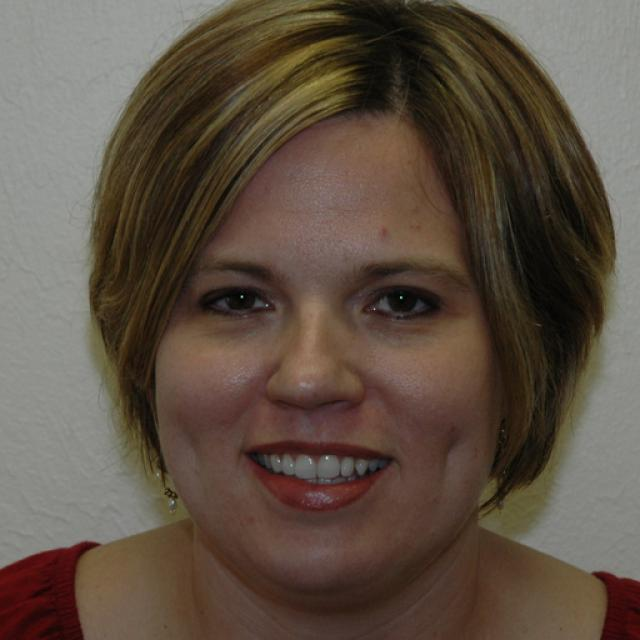Acne: (371, 219, 392, 240), (406, 204, 424, 216), (409, 219, 426, 230)
